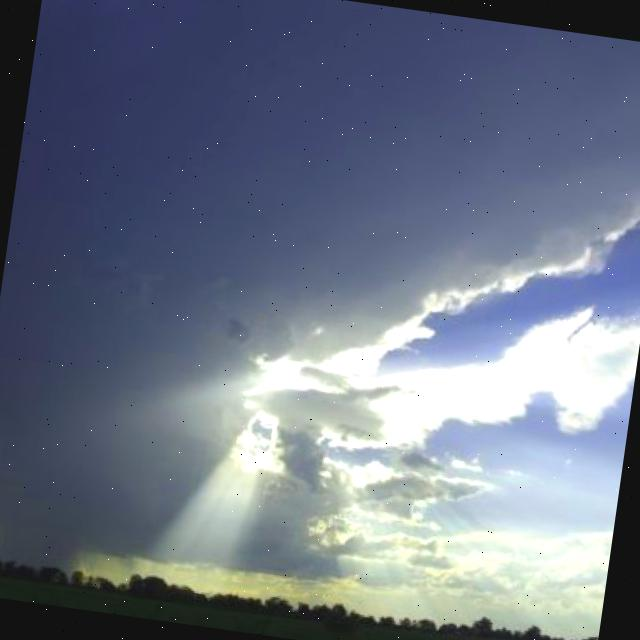Cb: (1, 1, 640, 609)
